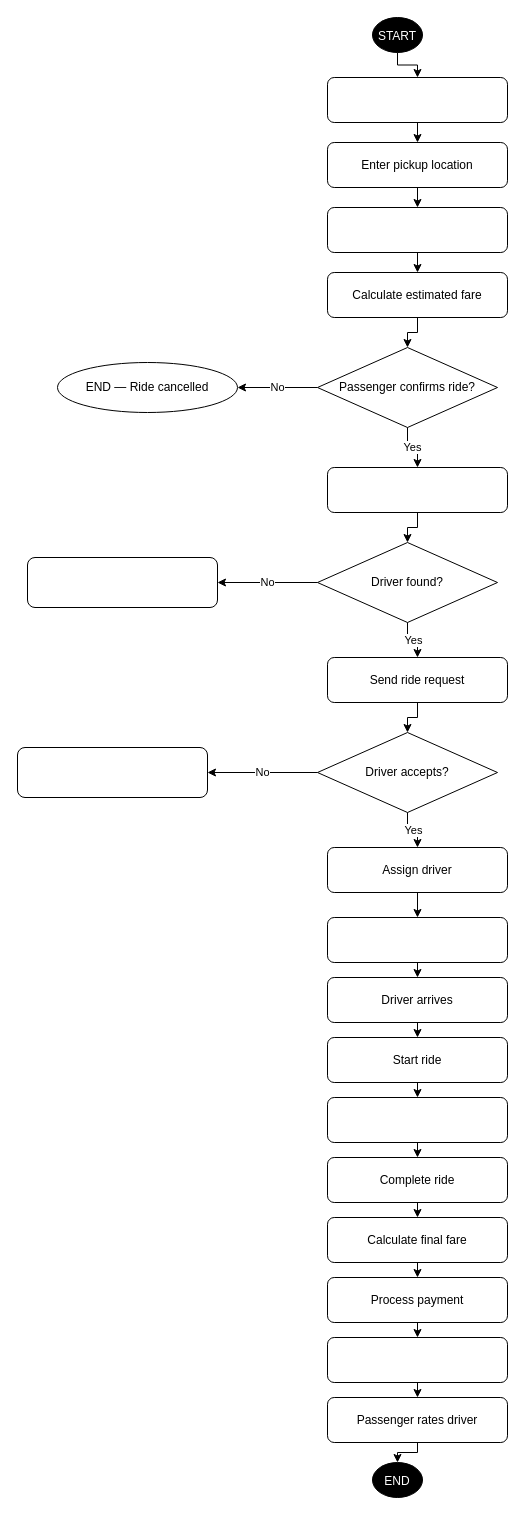
The diagram is 525 pixels wide and 1515 high, and some of its shapes have lost their labels. Each missing label, with the centre of its shape:
'No driver found': point 122,582
Enter destination: point 417,229
Find another driver: point 112,772
Notify passenger: point 417,939
Passenger logs in: point 417,99
Record completed ride: point 417,1359
Ride in progress: point 417,1119
Search available drivers: point 417,489
